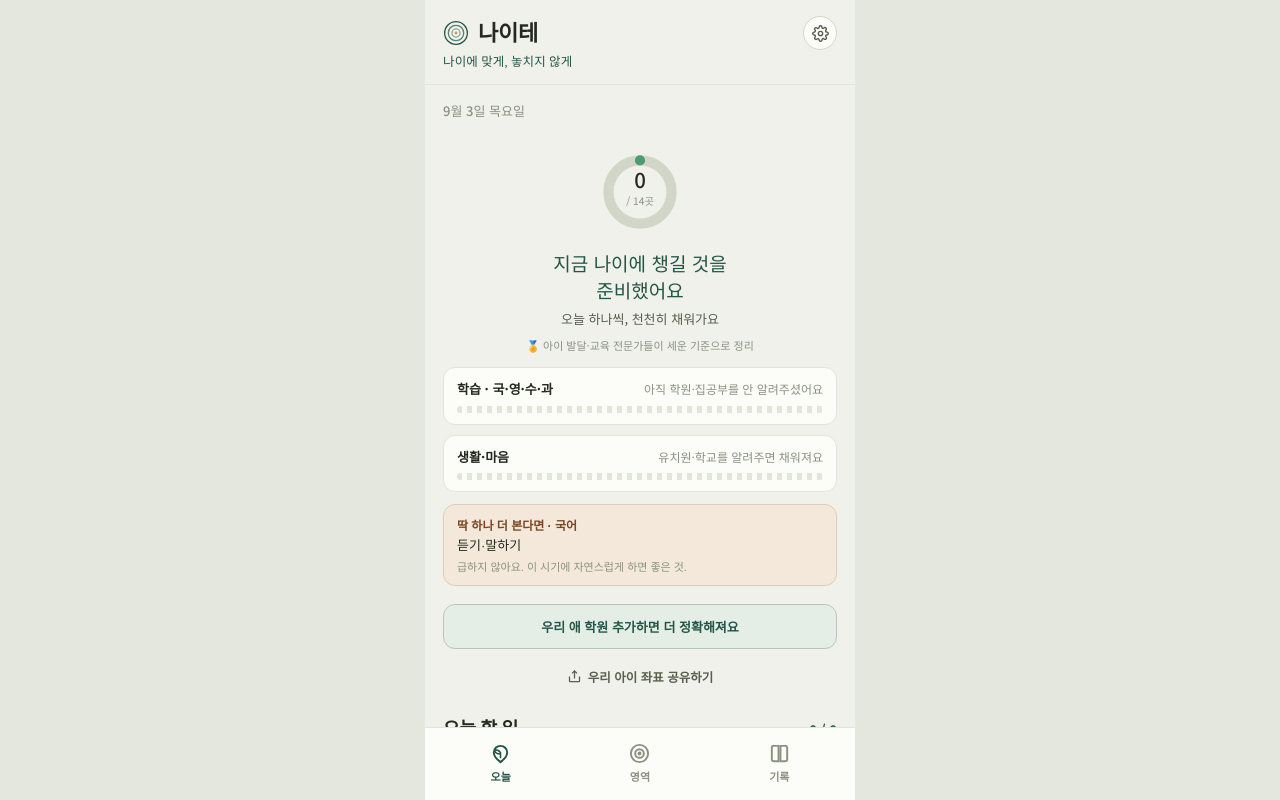
Test: ⭐ 영어(자체) 목표를 부모가 직접 입력한다 › ⭐ 영어 상세에서 목표를 입력하면 그 목표가 생긴다
Expected: the element with test id "view-today" is shown, [425, 85, 855, 727]
Click the button "영역". click: (640, 763)
box: [570, 736, 710, 790]
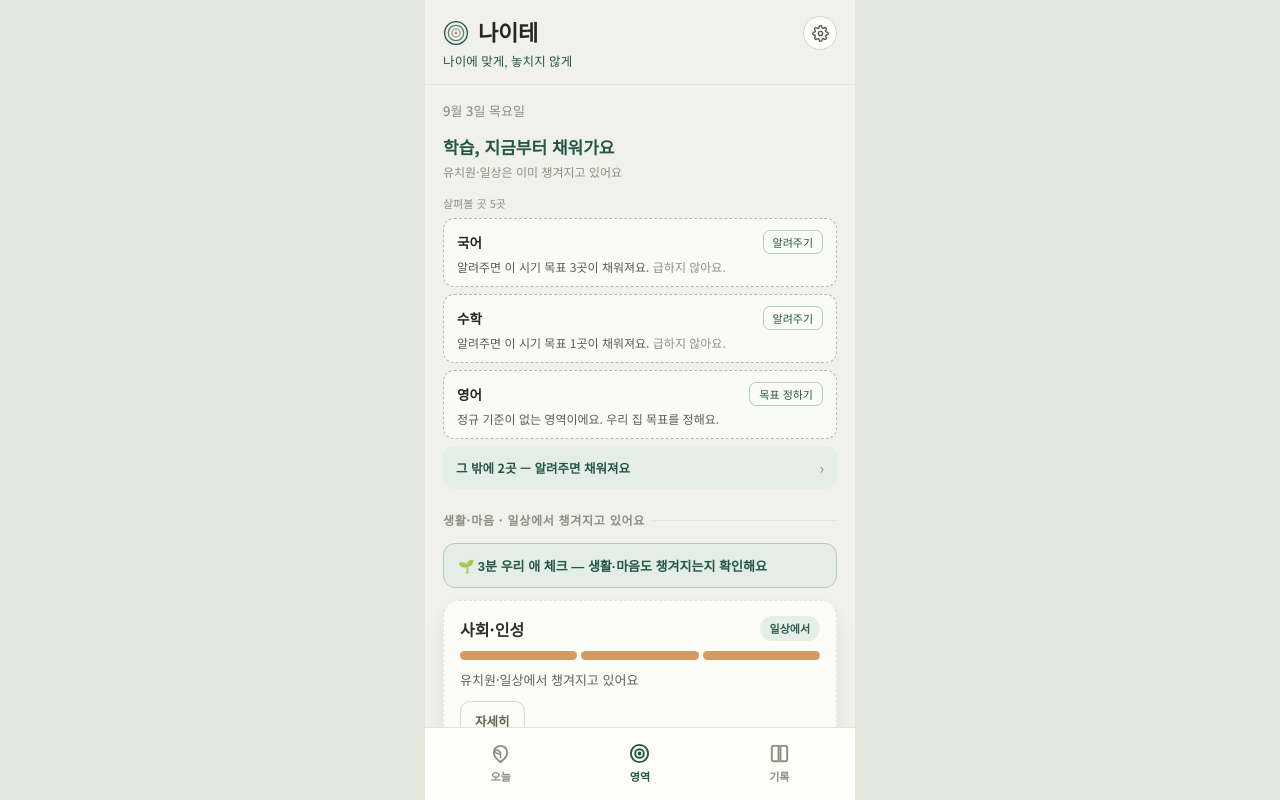
Click the button with test id "domain-영어". click: (786, 394)
box: [443, 370, 837, 439]
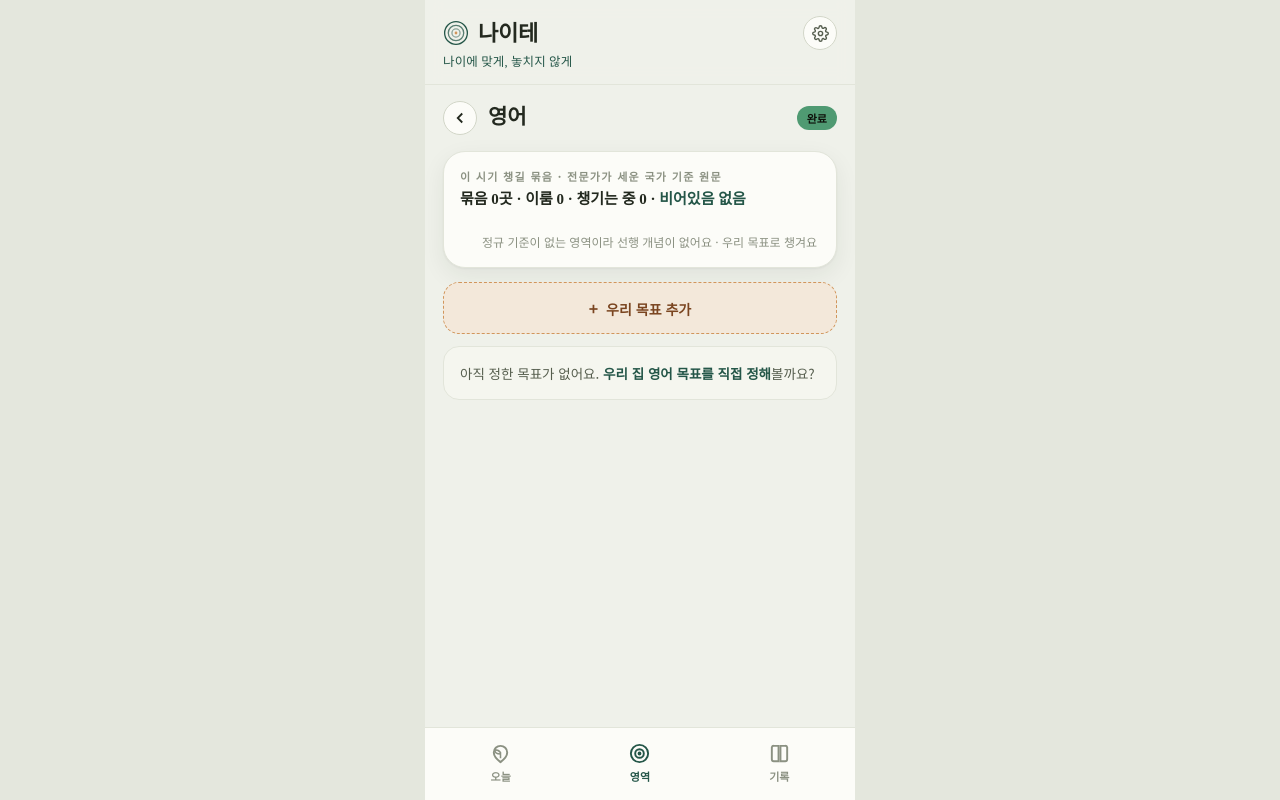
Click the button with test id "add-goal". click: (640, 308)
box: [443, 282, 837, 334]
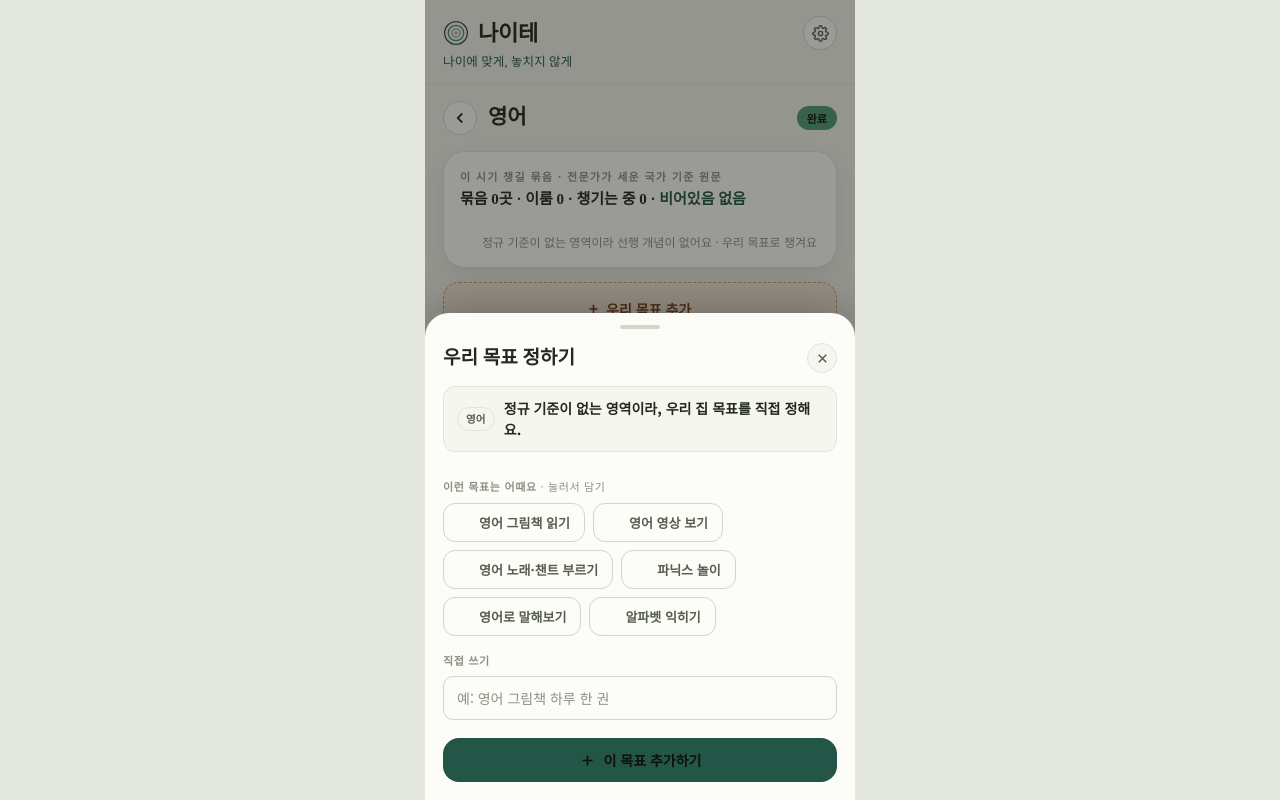
Type "영어 그림책 하루 한 권" into the field named "목표 문장". click: (640, 698)
box: [443, 676, 837, 720]
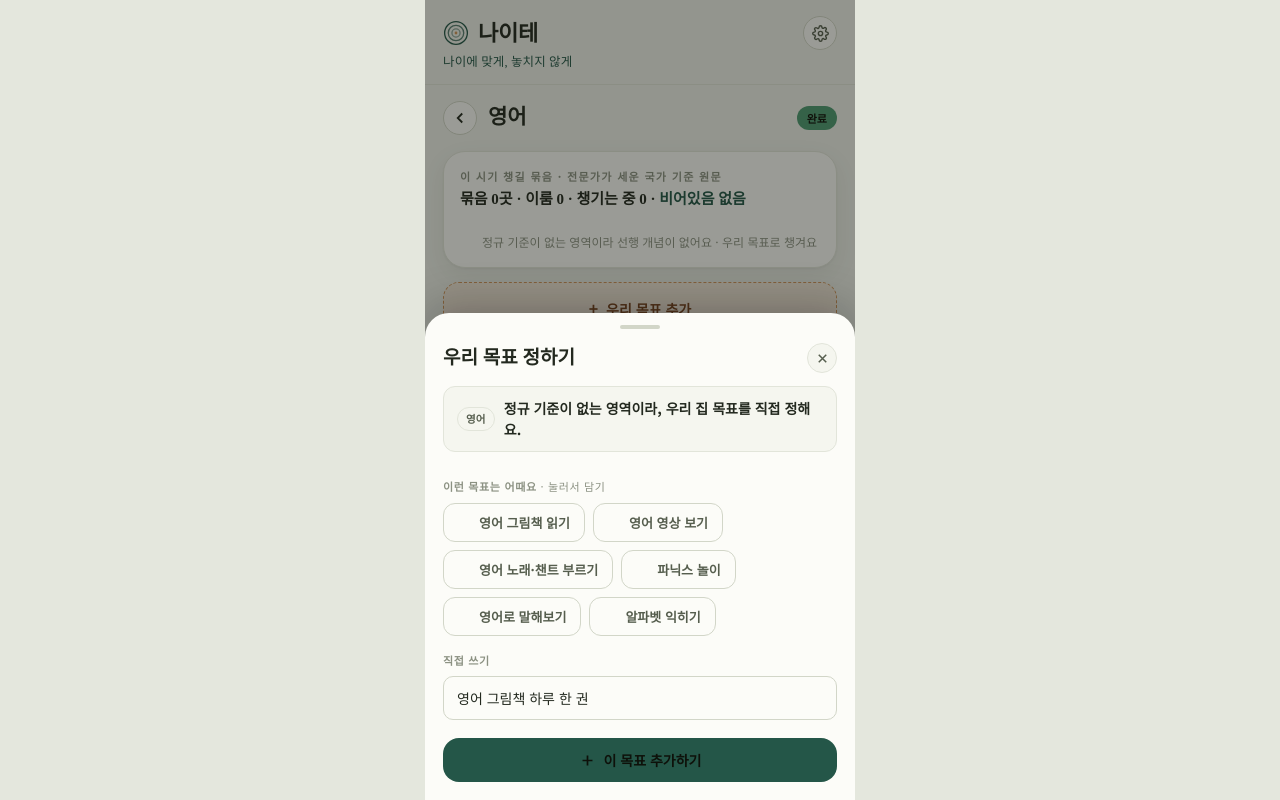
Click the button "이 목표 추가하기". click: (640, 760)
box: [443, 738, 837, 782]
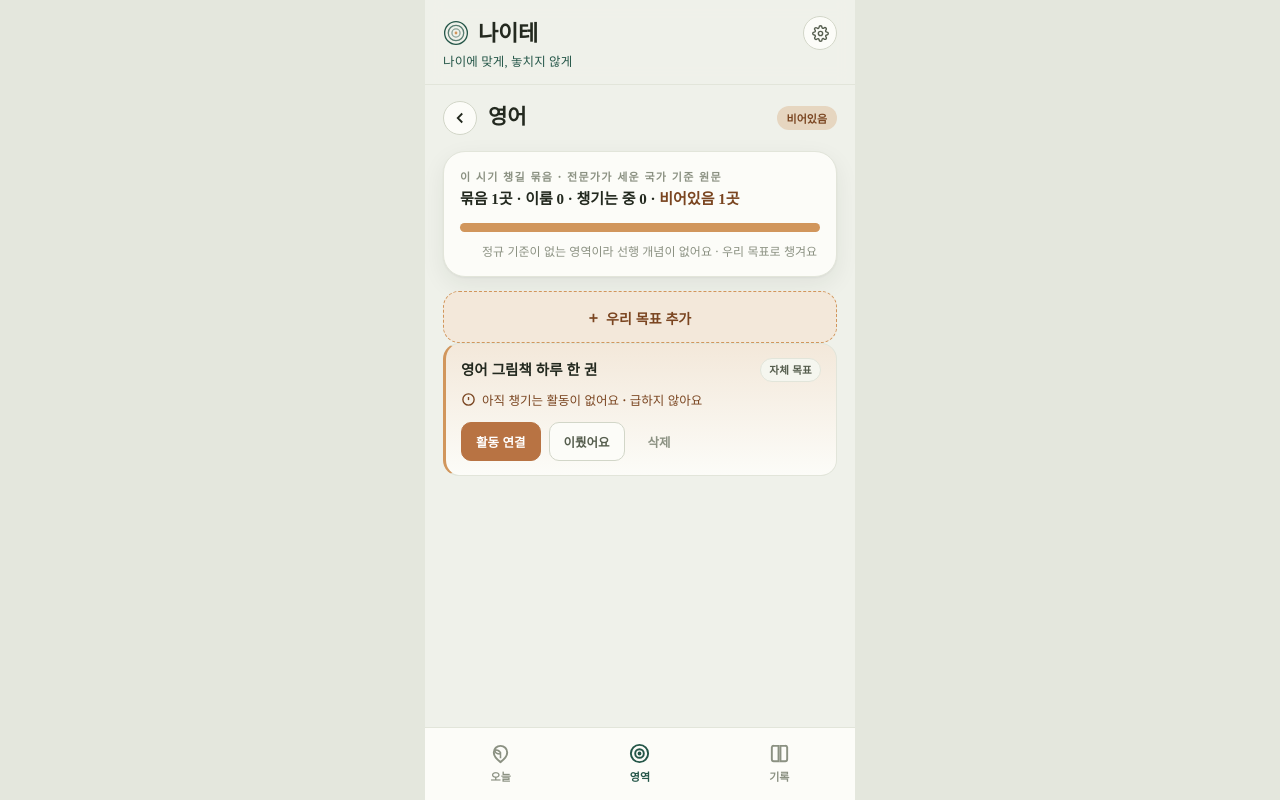
Now the text "영어 그림책 하루 한 권" is shown, box [461, 358, 597, 379]
Now the text "자체 목표" is shown, box [760, 358, 821, 382]
